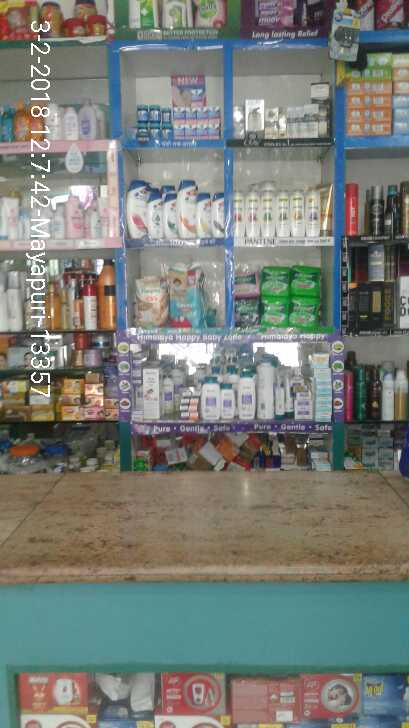vicks: (135, 98, 230, 142)
